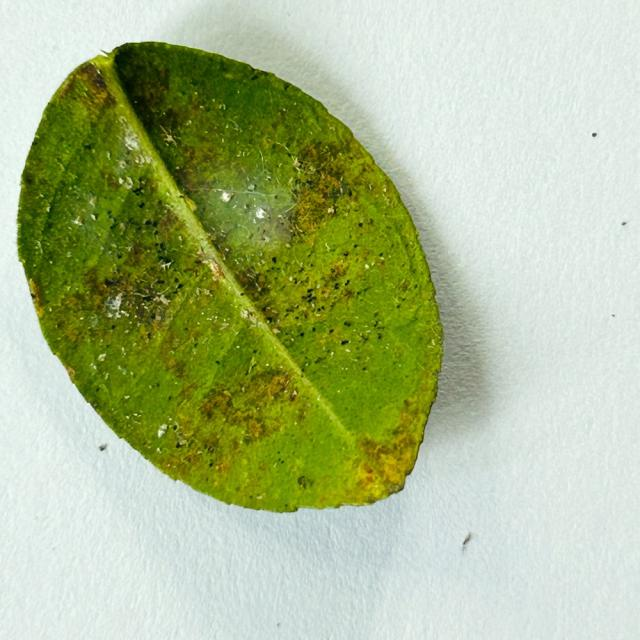Bacterial_Blight: (251, 209, 390, 358), (88, 223, 186, 330), (194, 367, 301, 444), (289, 153, 354, 235), (201, 390, 275, 449), (293, 253, 360, 315), (55, 278, 108, 338), (117, 276, 175, 326), (158, 102, 209, 153), (171, 145, 220, 196), (357, 431, 408, 475), (81, 261, 124, 310), (198, 389, 238, 427), (157, 208, 190, 246), (315, 172, 343, 200), (123, 240, 149, 269), (168, 357, 189, 379), (105, 172, 124, 190), (330, 261, 348, 278)
Lemon: (15, 42, 444, 516)
